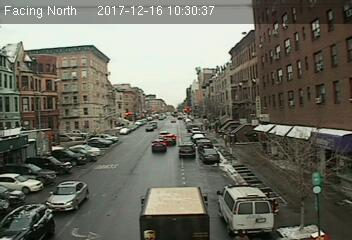car: (44, 180, 89, 210), (177, 143, 197, 159), (199, 148, 220, 163), (151, 138, 166, 151)
police: (215, 182, 276, 234)
ups: (136, 186, 211, 240)
